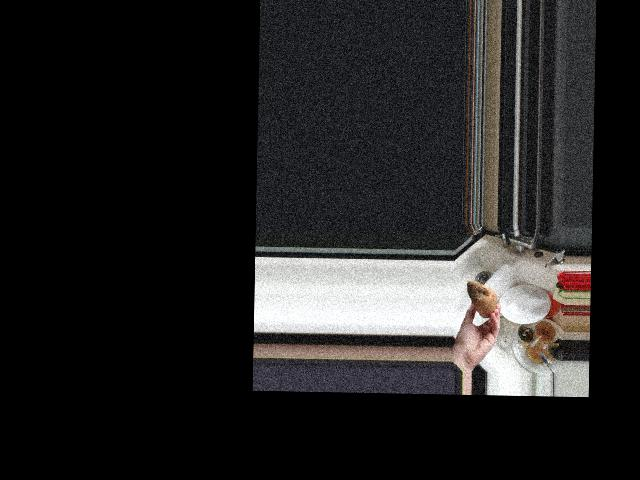sweet_potato: (463, 280, 499, 318)
